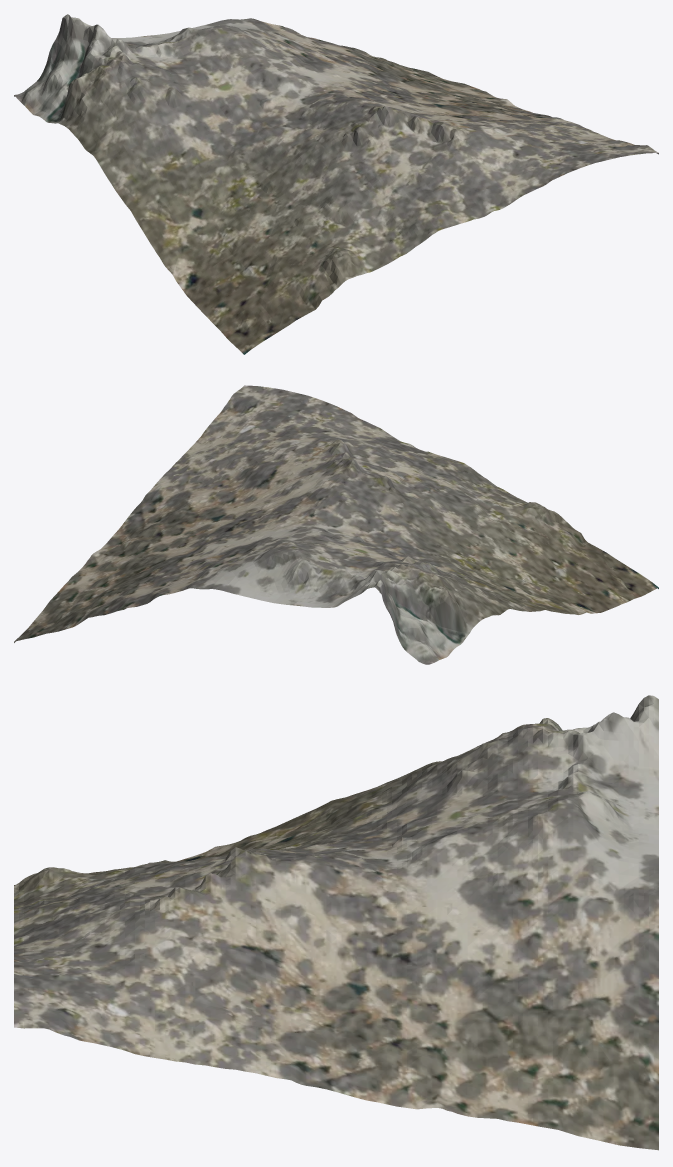
3 views of the same model, one above another, from view 1: azimuth 30°, elevation 25°; view 2: azimuth 150°, elevation 25°; view 3: azimuth 270°, elevation 25° (orthographic). The views are drawn at different scales.
Size of the model in its own units: 250 by 94 by 241.
1 material, 1 textured.
